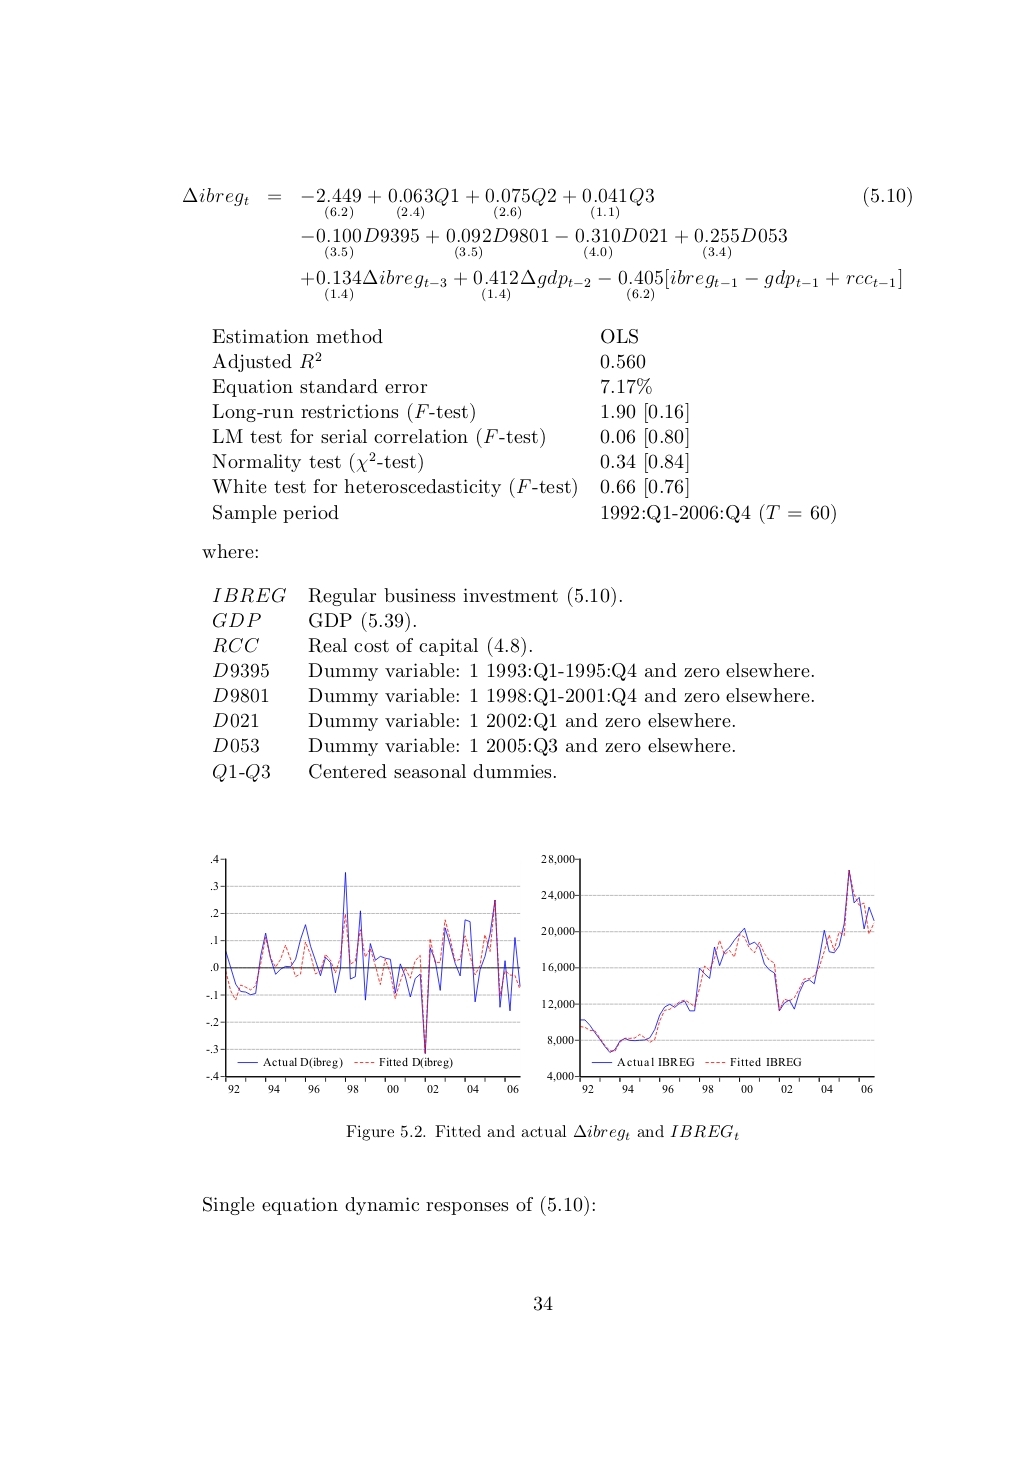Table: (212, 329, 835, 524)
figure: (541, 855, 875, 1092), (206, 854, 520, 1093)
formula: (183, 188, 911, 219), (302, 268, 901, 303), (302, 228, 786, 259)
